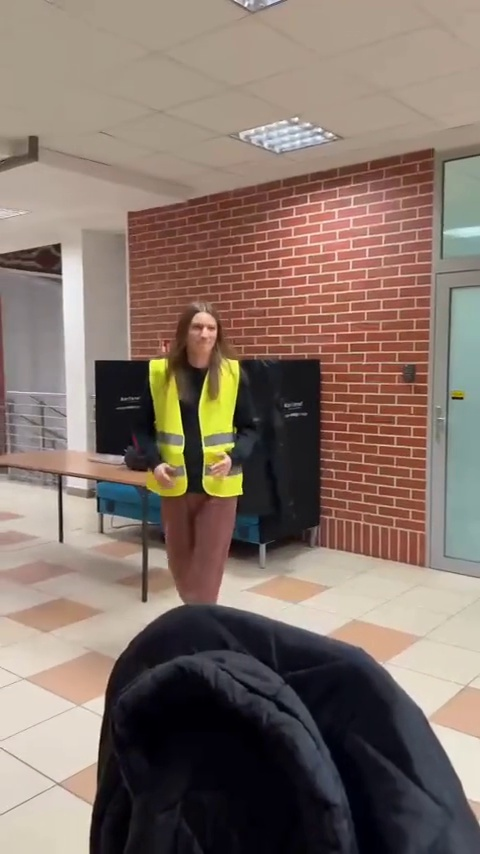vest: (139, 302, 259, 610)
